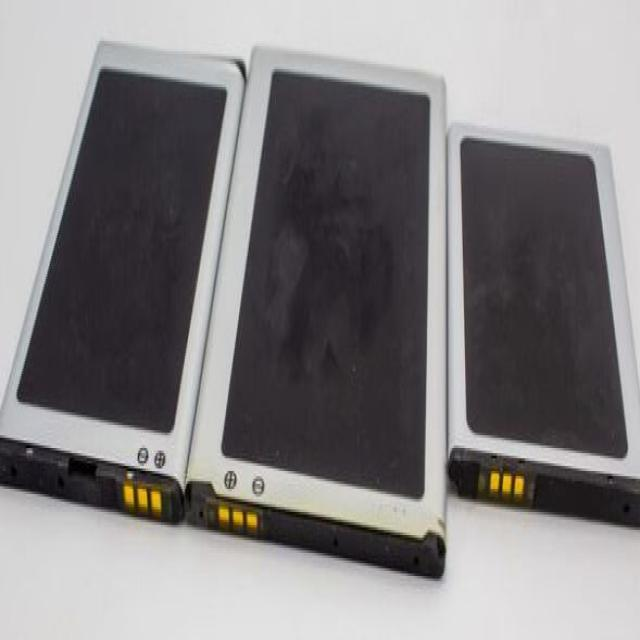electronic: (1, 6, 640, 599)
